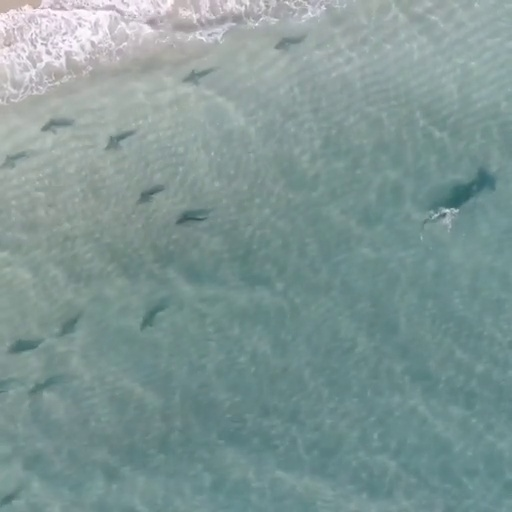shark: (419, 165, 499, 244)
